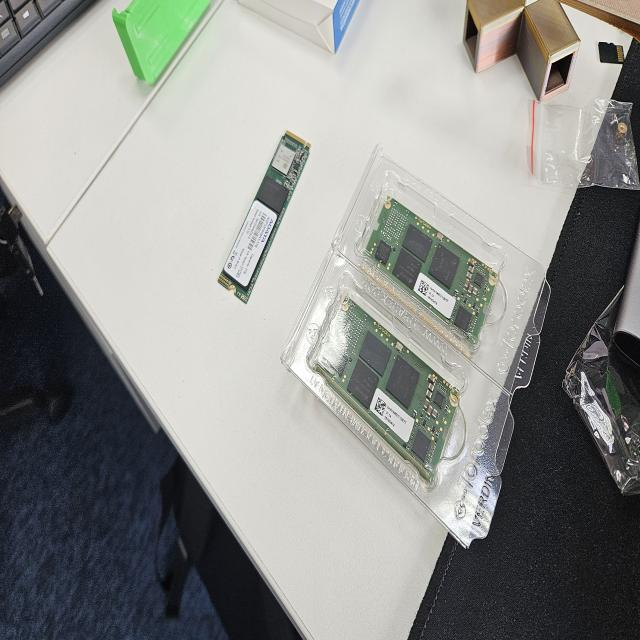som: (308, 300, 465, 480), (359, 194, 497, 344)
